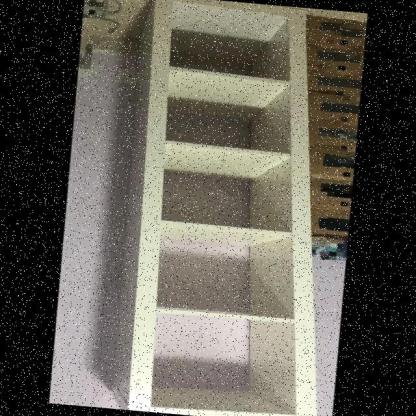Shelf: (96, 0, 355, 416)
